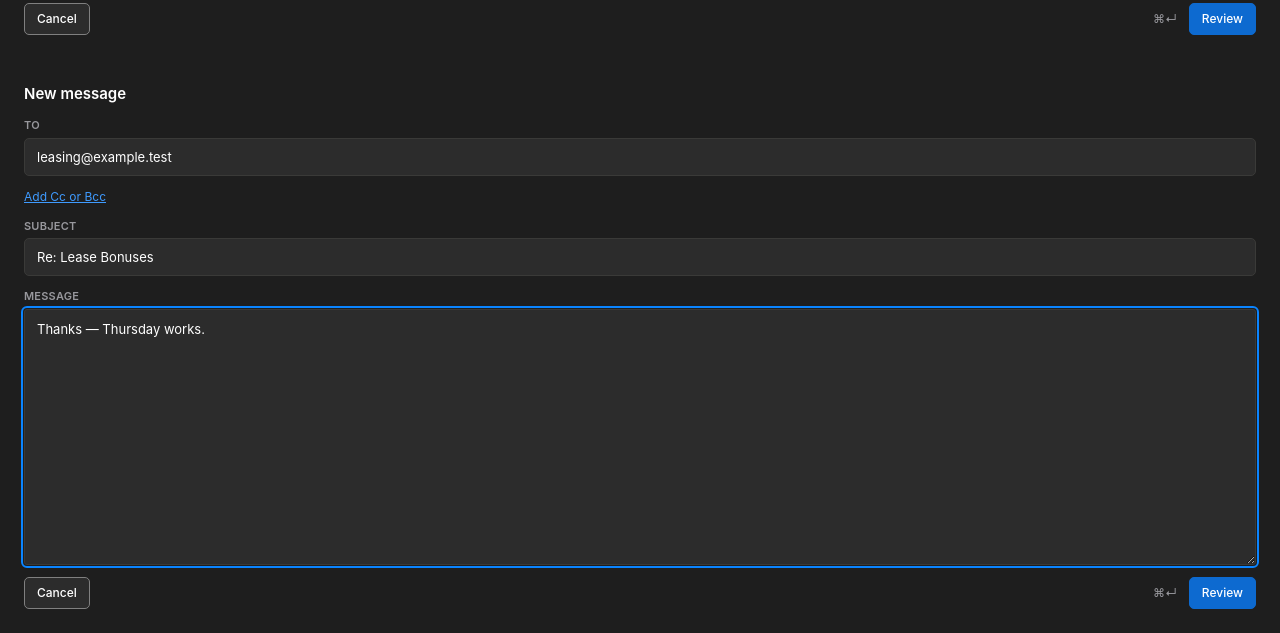
Scenario: nothing sends without the review step › moves focus onto the review screen when Review is pressed
(page scrolled)
What coordinates should you click on to do the following:
click the 2nd button "Review"
I would click on:
 (1222, 593)
Its box is [1189,577,1256,609].
(page scrolled)
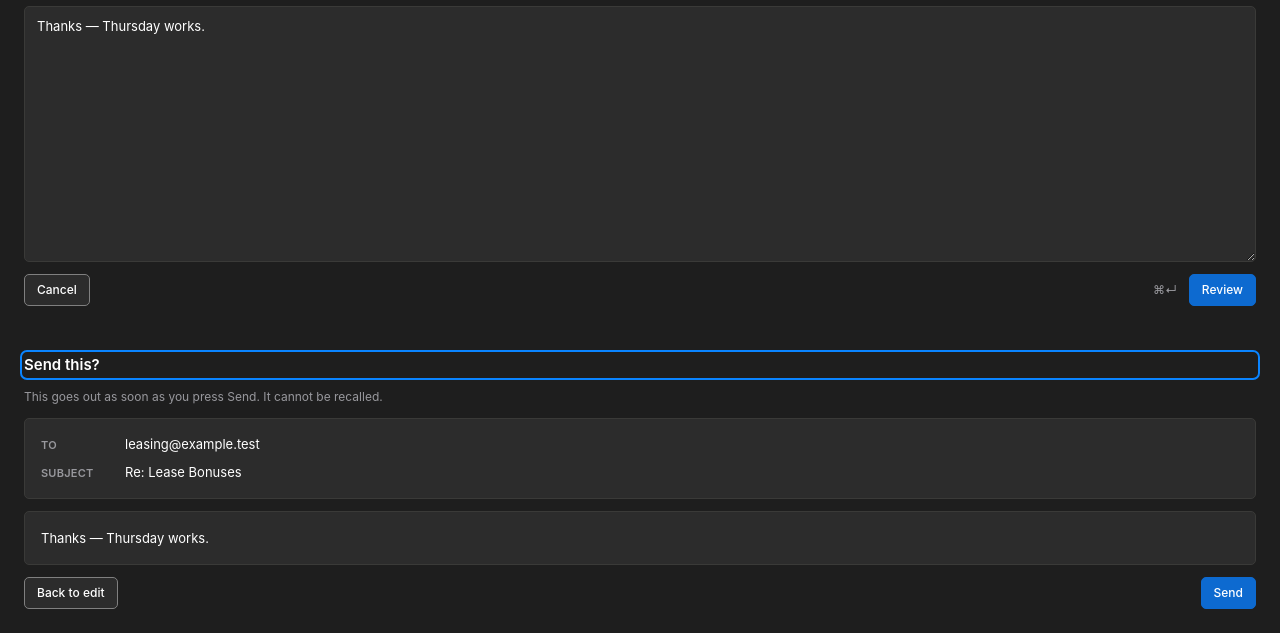
Expected: the heading with class "compose__title" reads "Send this?", [24,355,100,374]
